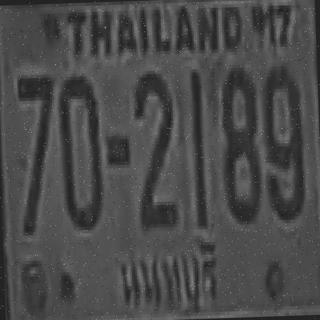N00: (57, 72, 102, 228)
N01: (188, 69, 206, 226)
N02: (133, 68, 175, 226)
N07: (15, 71, 56, 232)
N08: (219, 64, 260, 222)
N09: (261, 62, 304, 217)
P37: (113, 237, 222, 317)
